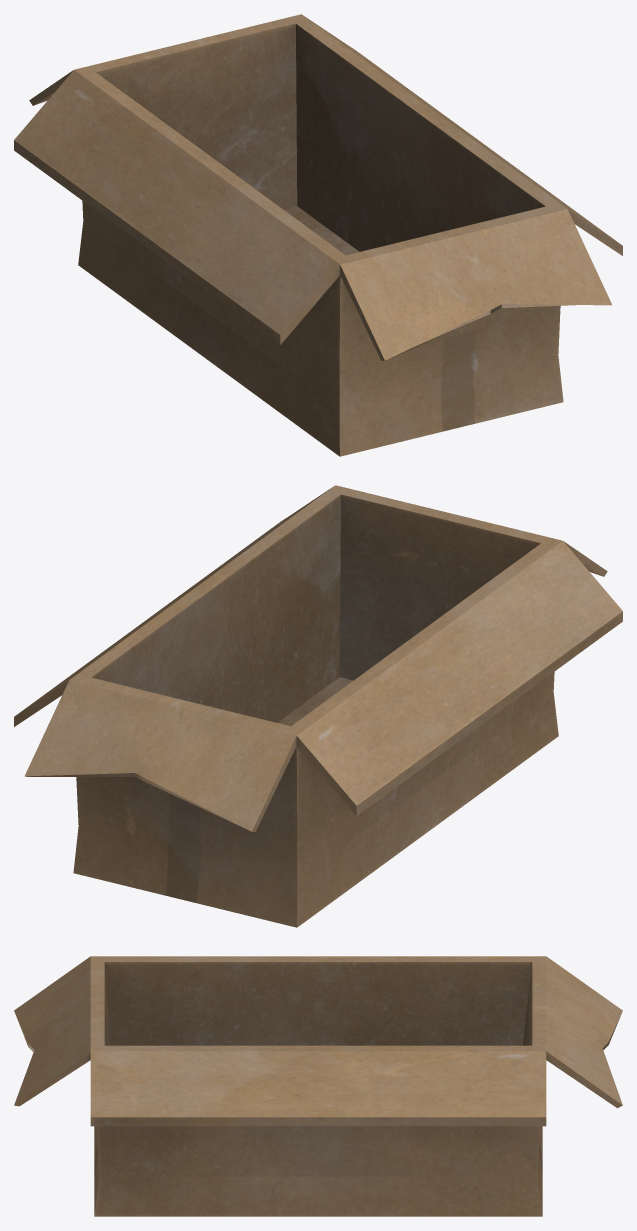
The picture shows the model from 3 angles, top to bottom: view 1: azimuth 30°, elevation 25°; view 2: azimuth 150°, elevation 25°; view 3: azimuth 270°, elevation 25°; orthographic projection. The views are drawn at different scales.
Parts seen in each view (by area): view 1: SM_Box_4_LOD0; view 2: SM_Box_4_LOD0; view 3: SM_Box_4_LOD0.
Boxes of the visible parts, <box> form: SM_Box_4_LOD0: <box>14,14,622,456</box>; SM_Box_4_LOD0: <box>14,485,622,927</box>; SM_Box_4_LOD0: <box>14,956,622,1216</box>.
Bounding box in the file's own units: 36.56 × 65.74 × 19.8.
Materials: 1 (1 with a texture image).
